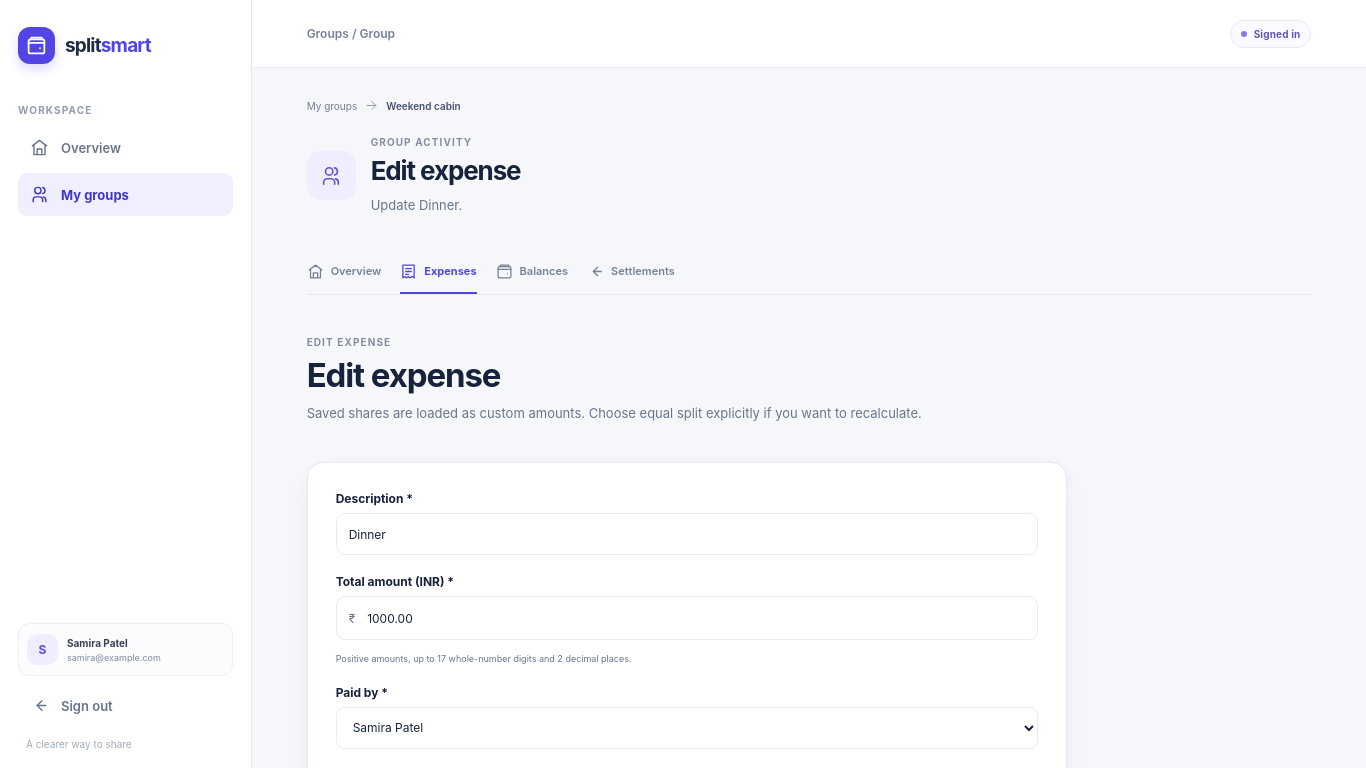
Scenario: expense editing and deletion › sends an explicit EQUAL update to the existing expense URL
This screenshot has width=1366, height=768.
Step 1. Replace the text in the field labelled "Description *" with "Updated dinner" → point(687, 534), box [336,513,1038,555]
(page scrolled)
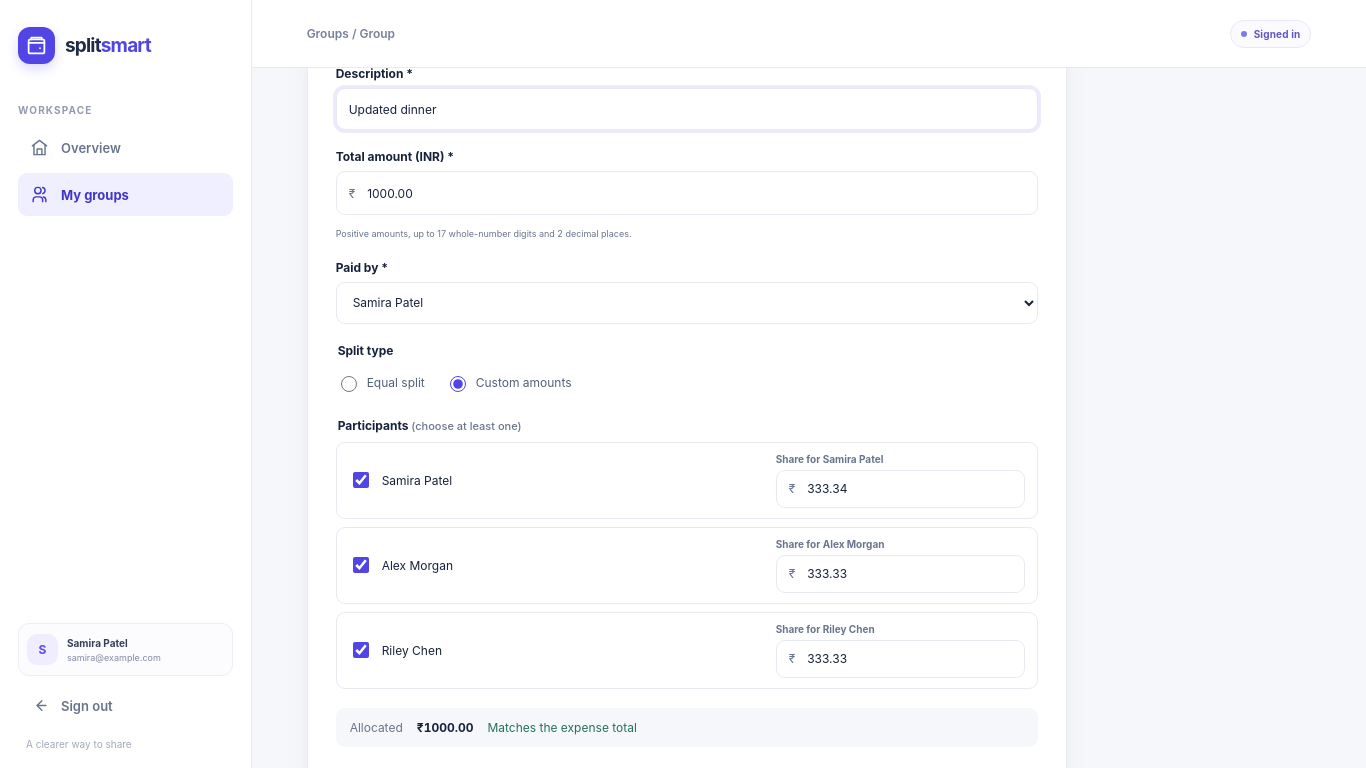
Step 2. Click the radio button labelled "Equal split" → point(349, 384), box [341,376,357,392]
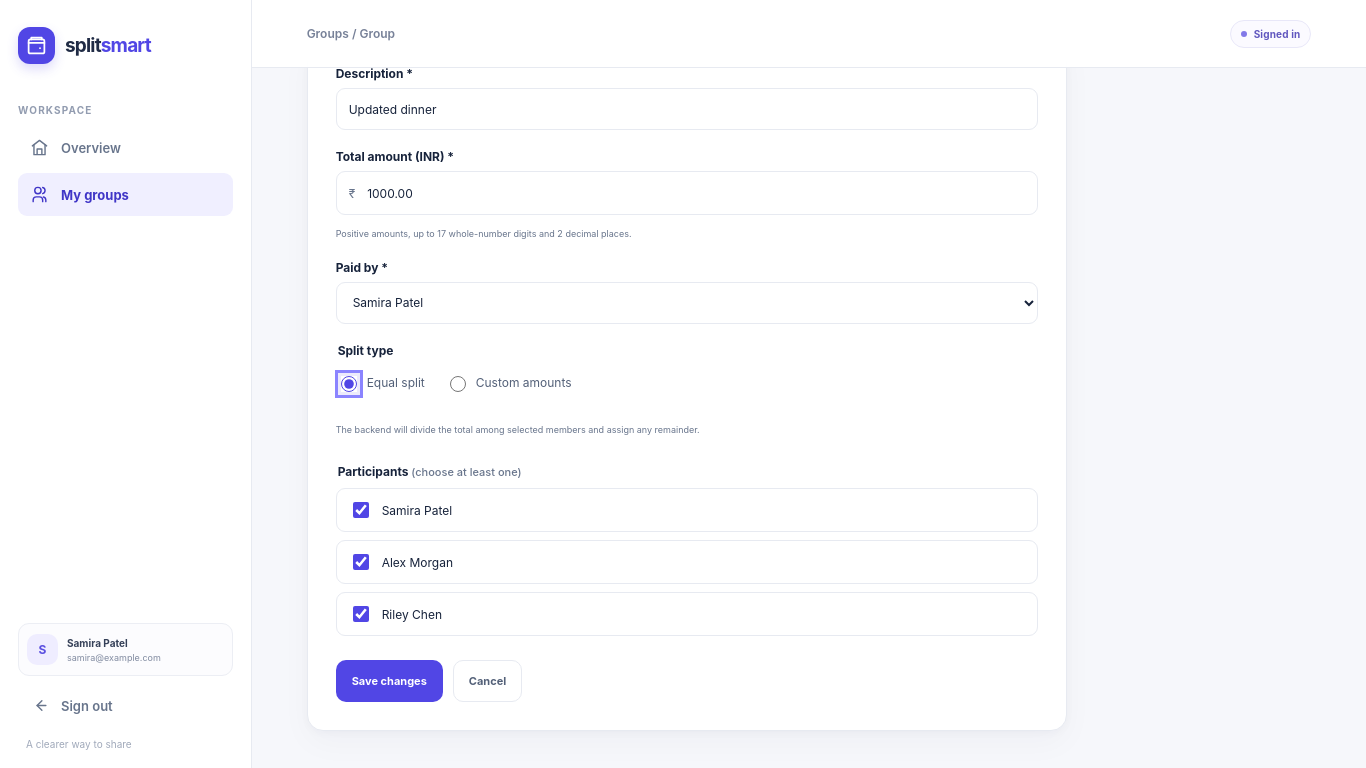
Step 3. Click the checkbox labelled "Riley Chen" → point(361, 614), box [353,606,369,622]
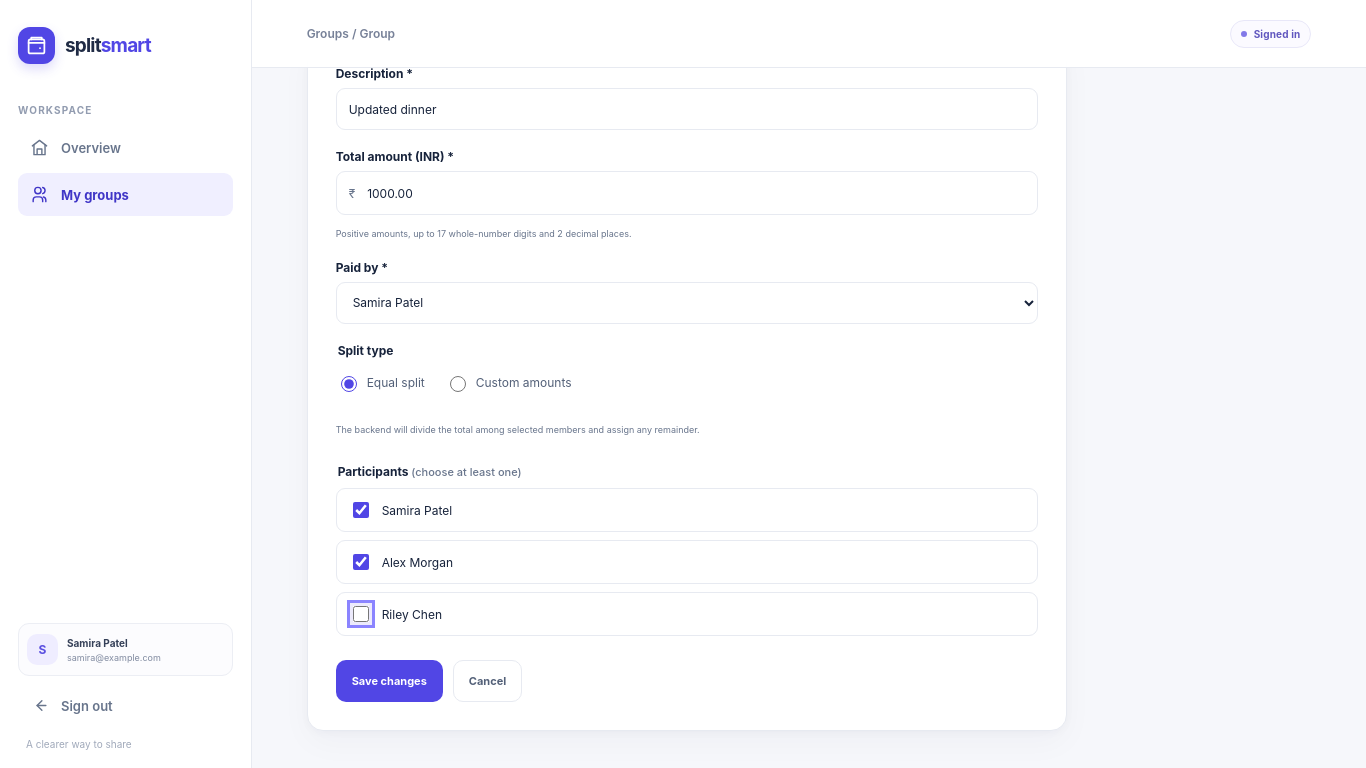
Step 4. Click the button "Save changes" → point(389, 681), box [336,660,443,702]
(page scrolled)
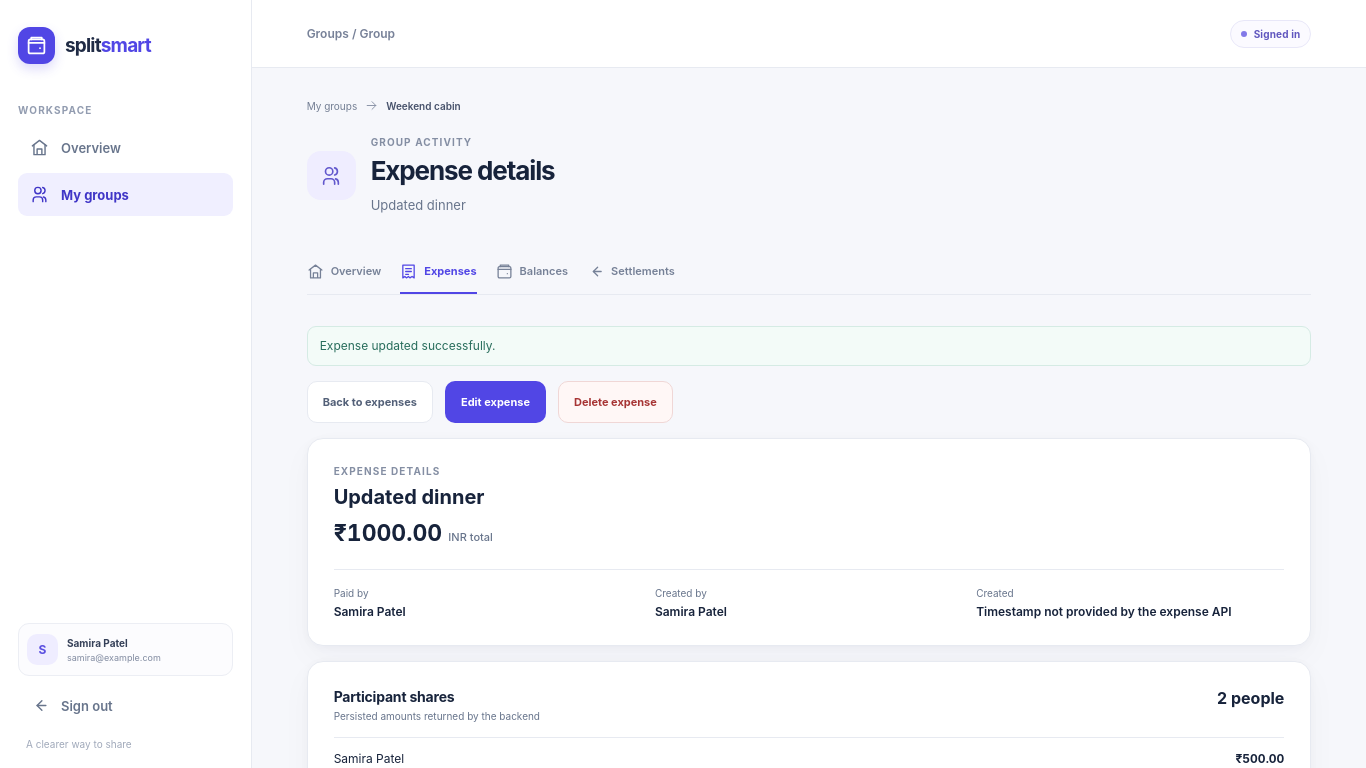
Check: the heading "Updated dinner" is shown, box [334,484,484,508]
